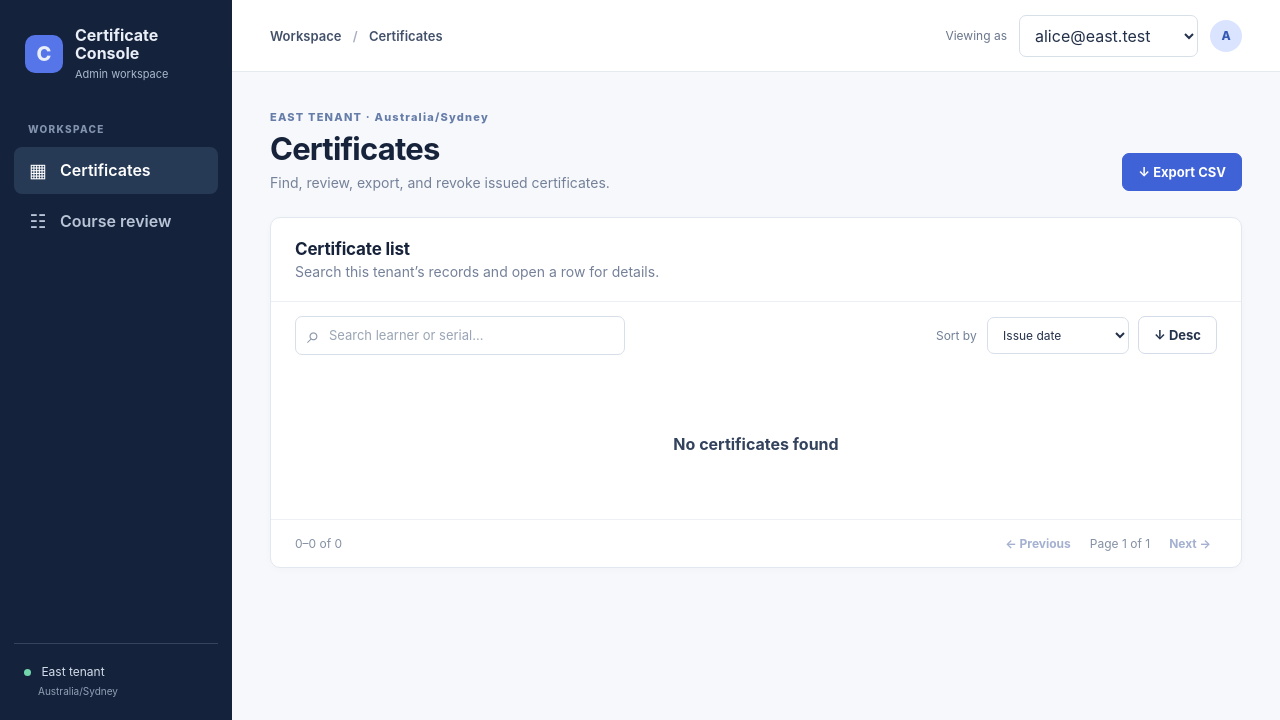
Test: certificate console › shows loading, empty, and retryable error list states
Later steps or results of the test are not shown.
Expected: the text "No certificates found" is shown, x1=673 y1=434 x2=839 y2=454
Select "Learner" in the dropdown labelled "Sort by": (1058, 335) x1=987 y1=317 x2=1129 y2=354
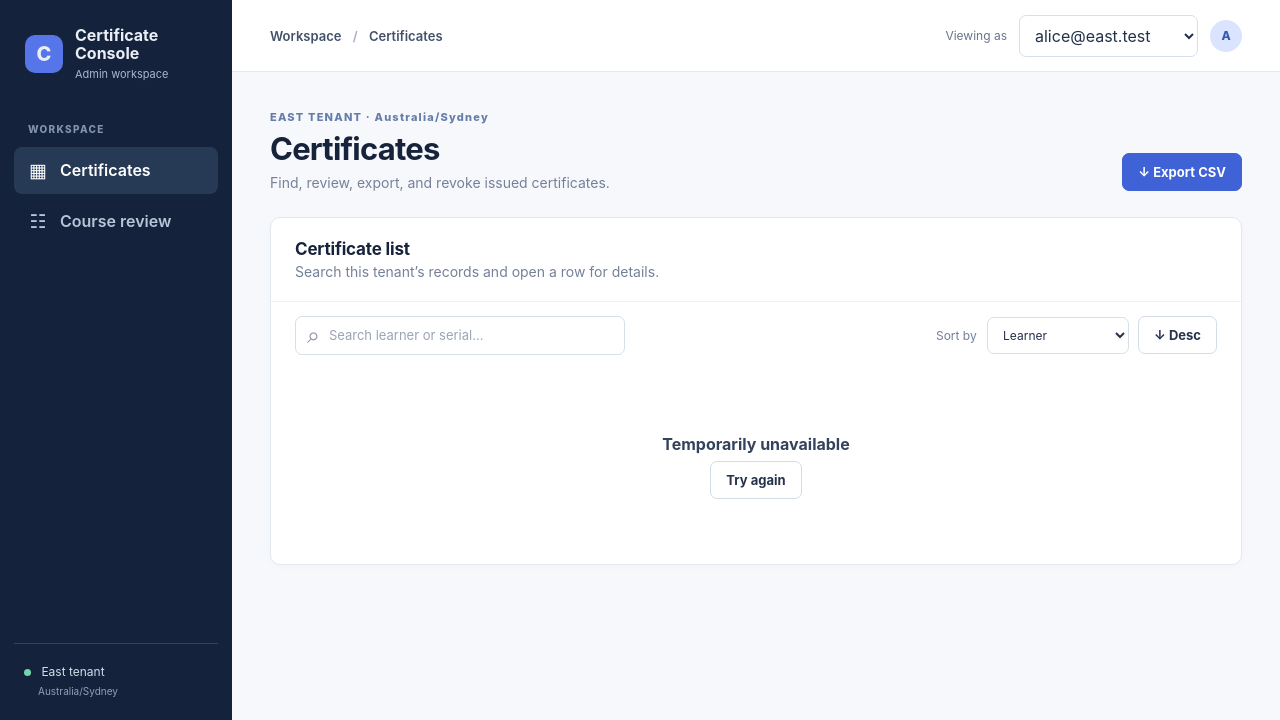
Expected: the text "Temporarily unavailable" is shown, x1=662 y1=434 x2=850 y2=454
Click the button "Try again": (756, 480) x1=710 y1=461 x2=802 y2=499
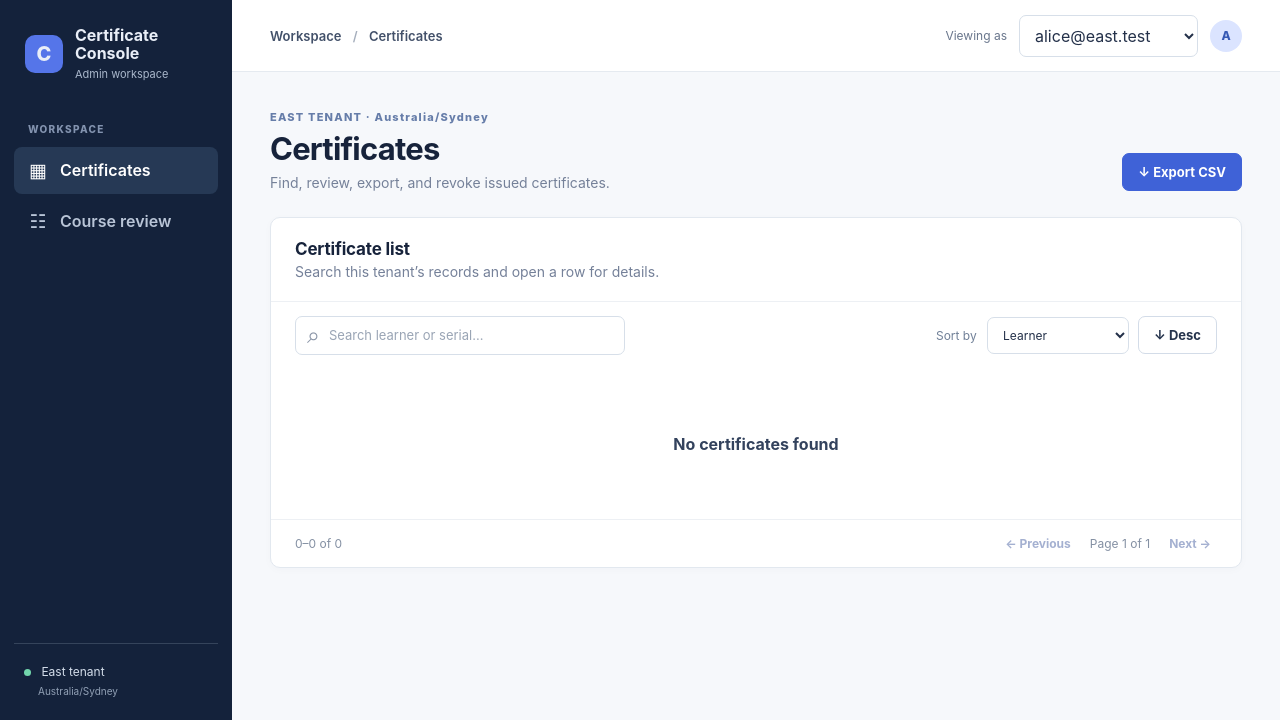
Expected: the text "No certificates found" is shown, x1=673 y1=434 x2=839 y2=454
